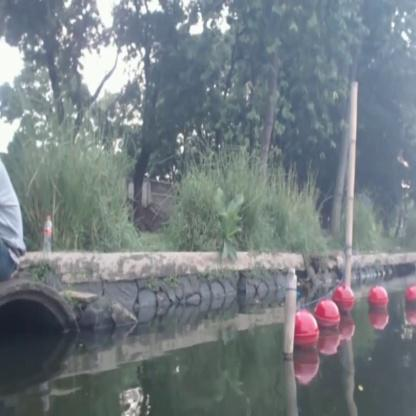red_buoy: (296, 315, 317, 349), (320, 301, 340, 335), (368, 287, 388, 316), (340, 288, 352, 314), (404, 285, 415, 311)
